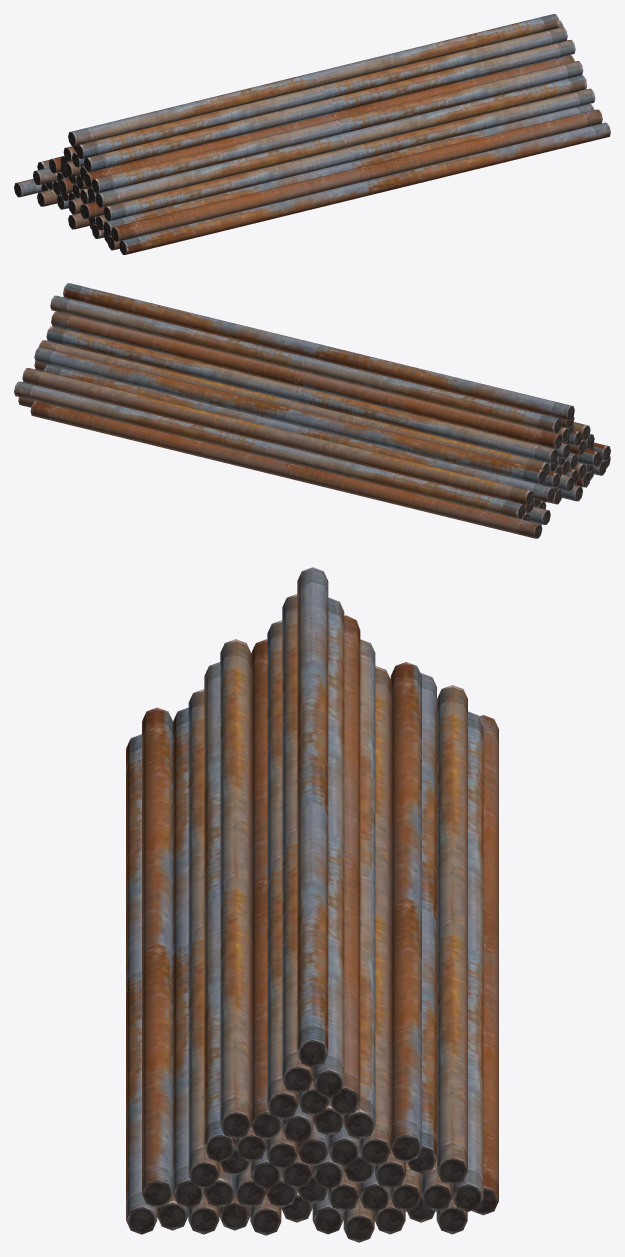
File: pipe_pile_d.glb
3 views of the same model, one above another, from view 1: azimuth 30°, elevation 25°; view 2: azimuth 150°, elevation 25°; view 3: azimuth 270°, elevation 25° (orthographic). The views are drawn at different scales.
Parts seen in each view (by area): view 1: pipe_pile_d; view 2: pipe_pile_d; view 3: pipe_pile_d.
Boxes of the visible parts, left/top/right/bottom form: pipe_pile_d: left=14, top=14, right=610, bottom=254; pipe_pile_d: left=14, top=283, right=610, bottom=538; pipe_pile_d: left=126, top=567, right=498, bottom=1242.
Bounding box in the file's own units: 9.52 × 1.66 × 3.
1 material, 1 textured.
